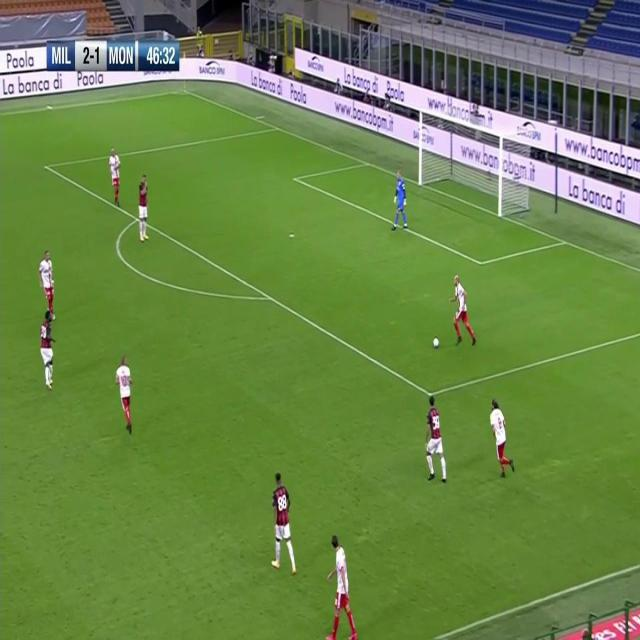ball: (432, 334, 440, 350)
goalkeeper: (391, 169, 410, 233)
player: (327, 530, 357, 640), (270, 471, 298, 578), (489, 399, 517, 477), (424, 393, 448, 483), (449, 273, 477, 347), (40, 308, 58, 394), (116, 354, 135, 434), (38, 248, 56, 311), (136, 170, 150, 243), (109, 145, 122, 209)
